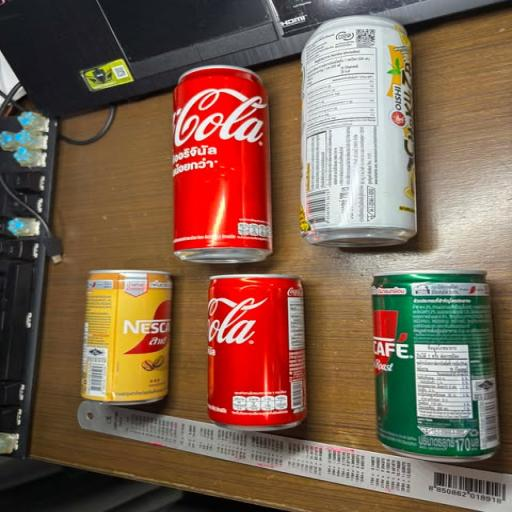canned: (292, 10, 466, 256), (357, 259, 509, 473), (154, 54, 292, 269), (195, 265, 325, 437), (69, 258, 188, 412)
